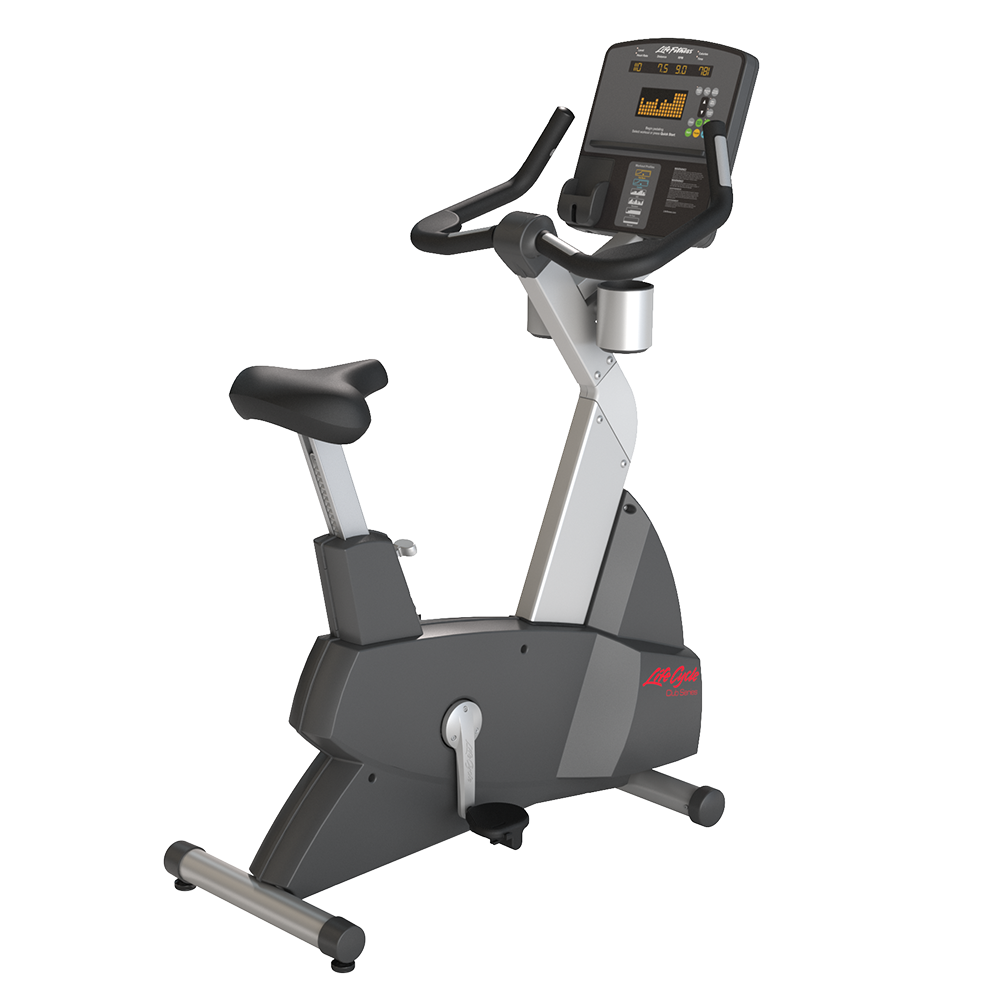gym_bike: (176, 17, 771, 979)
